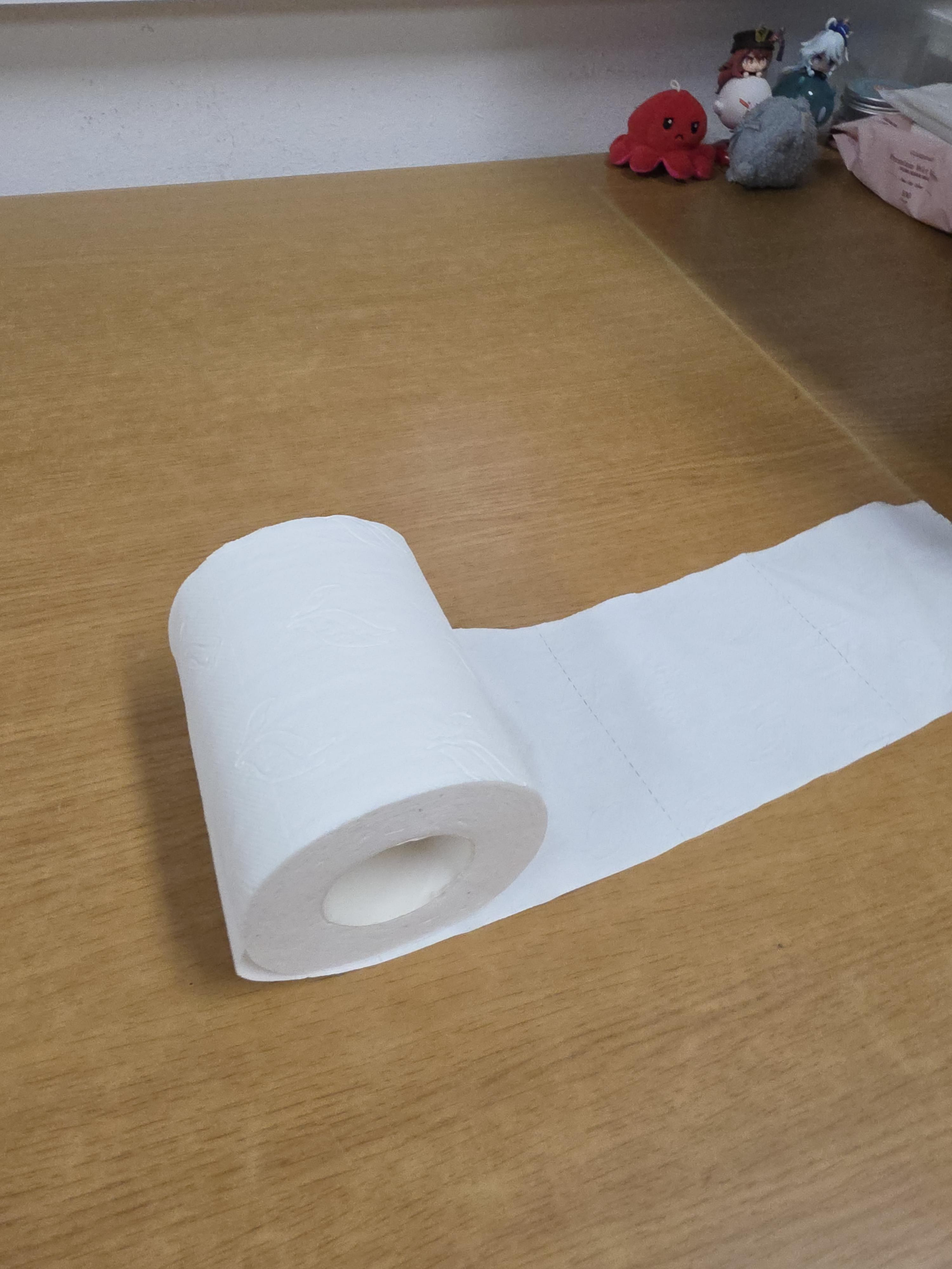tissue: (167, 500, 951, 983)
